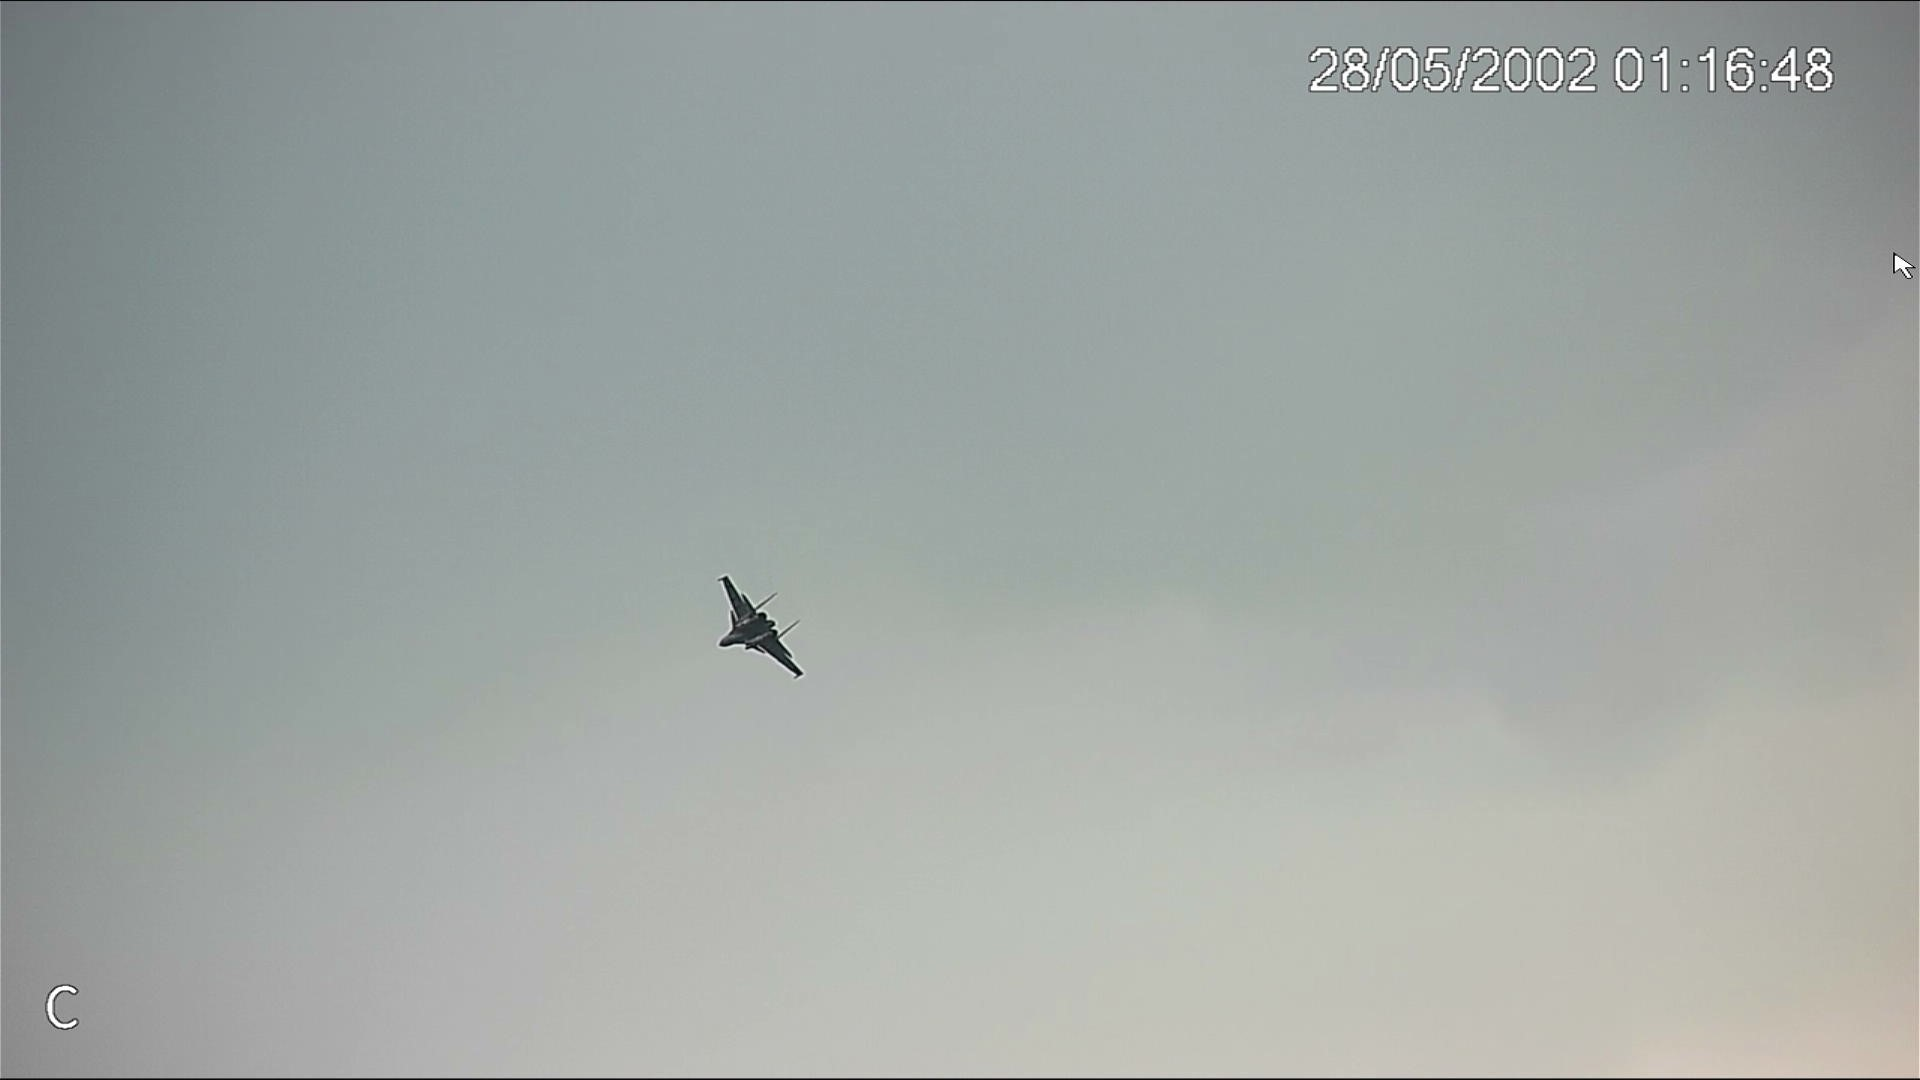SU_30: (711, 578, 804, 683)
